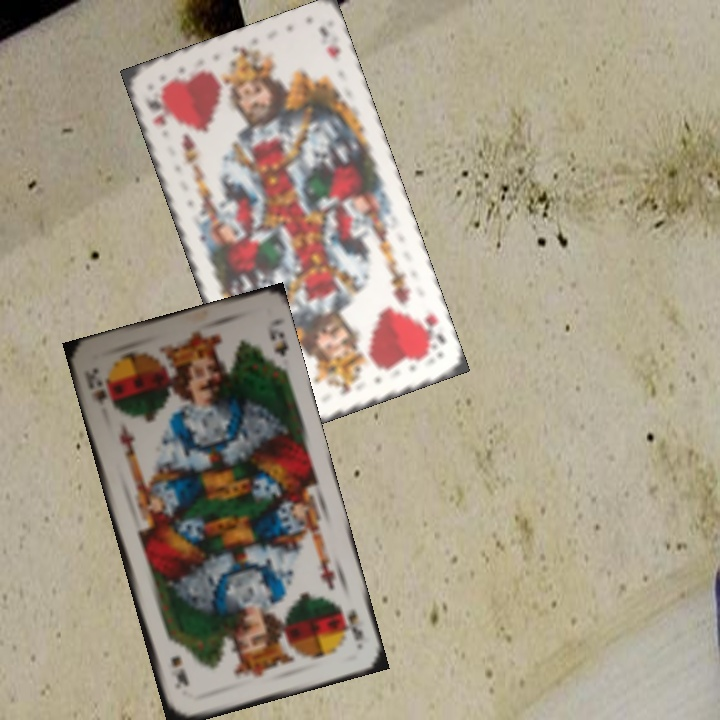HK: (413, 309, 448, 357), (142, 93, 169, 129)
SK: (335, 600, 366, 645), (80, 363, 110, 408)
